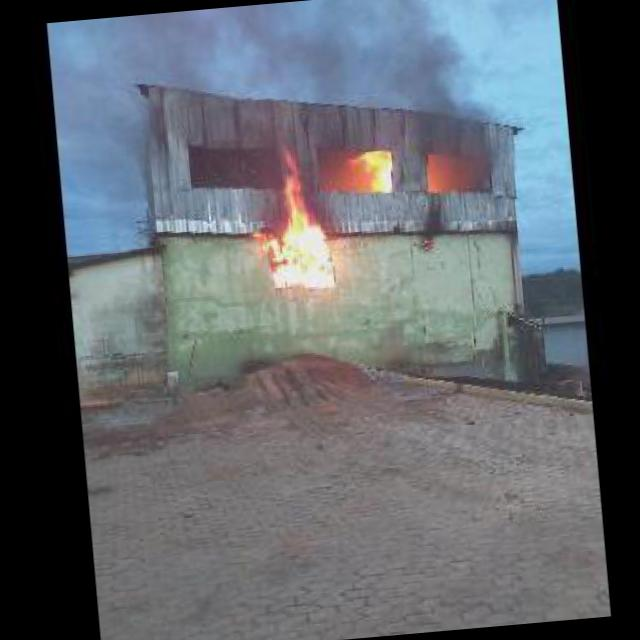fire: (244, 142, 338, 294), (344, 149, 398, 194)
smoke: (48, 0, 504, 151)
